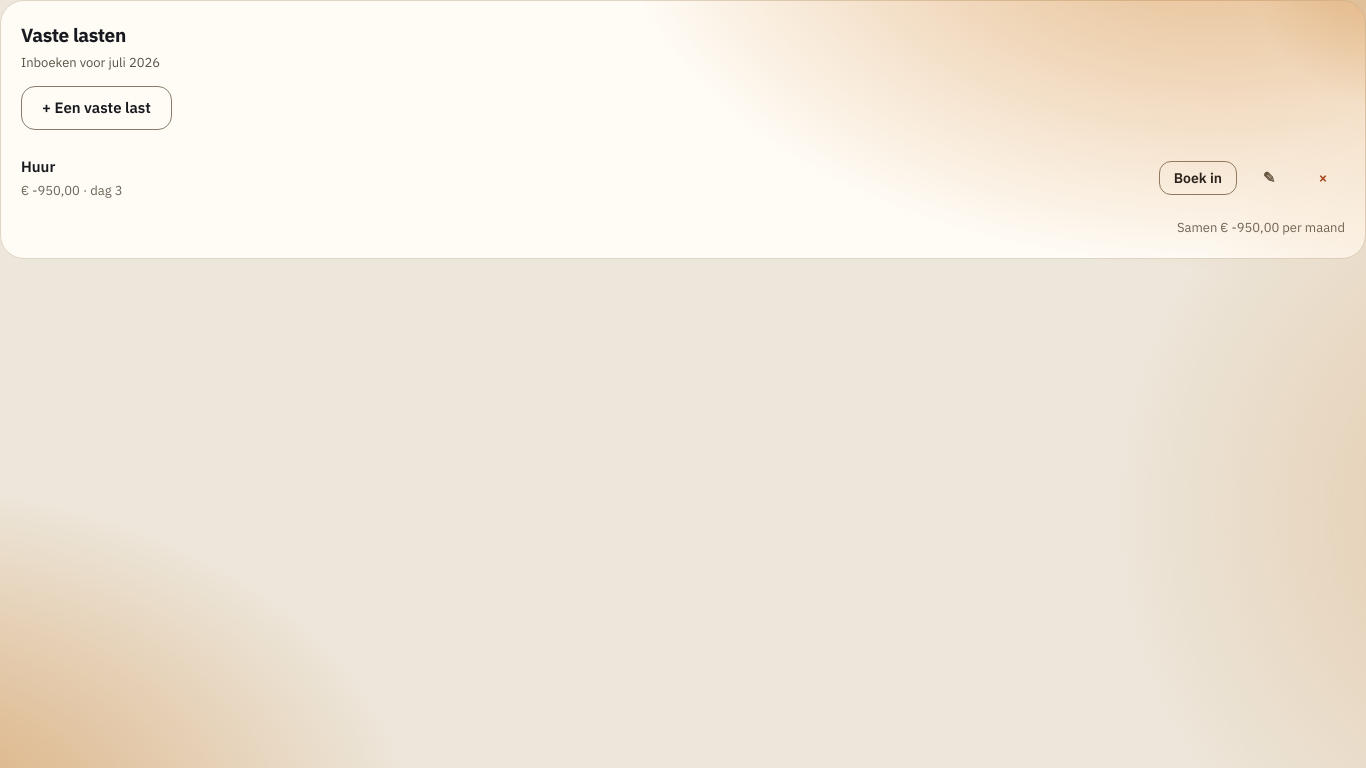
Scenario: TerugkerendeSectie — het contractformulier › houdt de uitleg en het voorbehoud uit elkaar
Click the button "+ Een vaste last" at (96, 108), box [21,86,172,130]
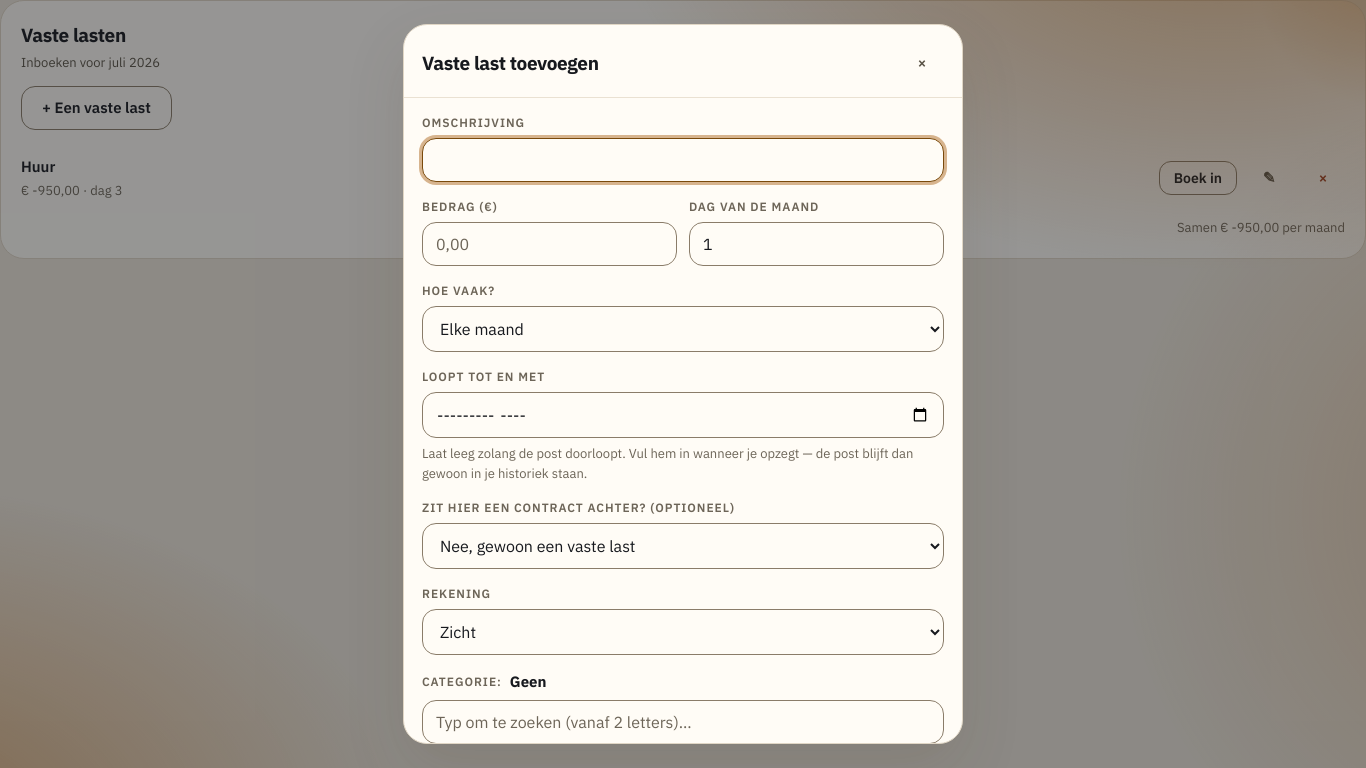
Select "Energie (elektriciteit of gas)" in the dropdown labelled "Zit hier een contract achter? (optioneel)" at (683, 546), box [422,523,944,569]
(page scrolled)
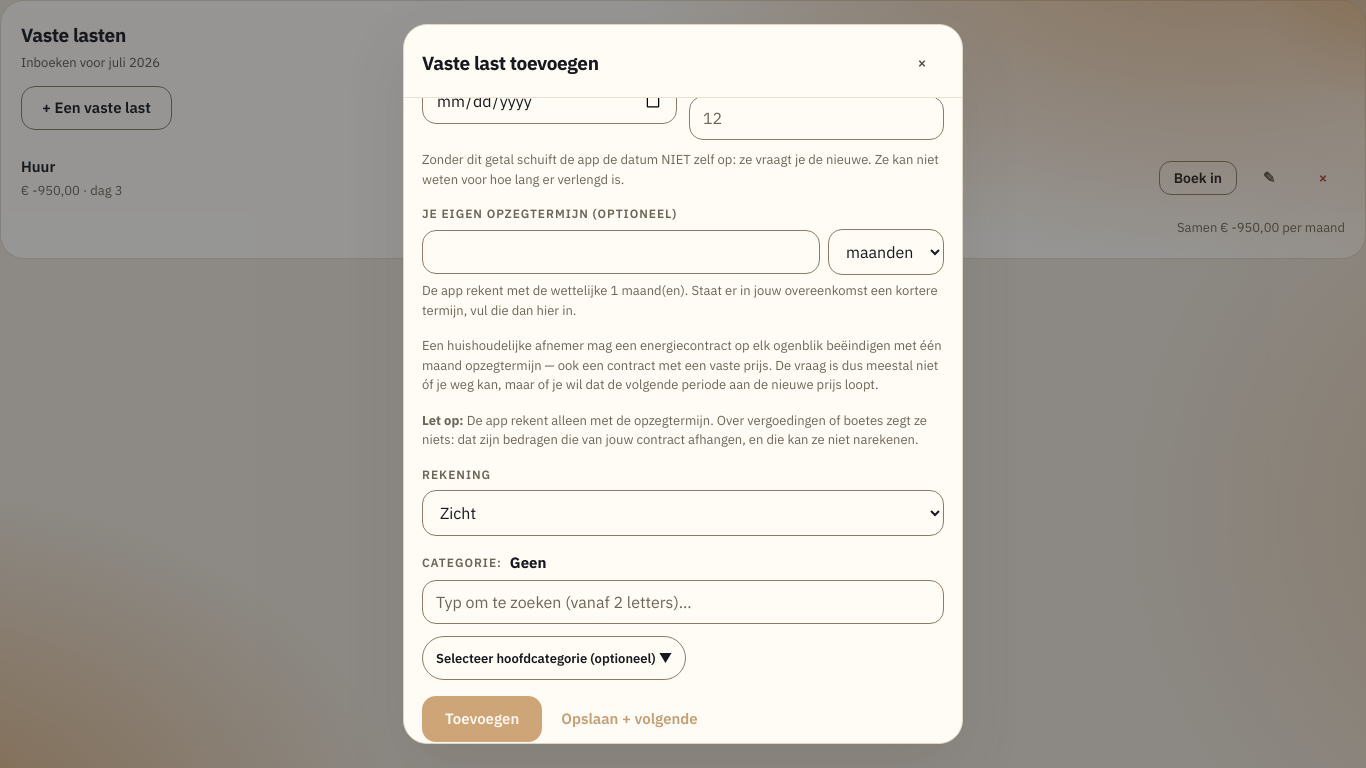
Expected: the text "Let op:" is shown, [422,412,464,428]
